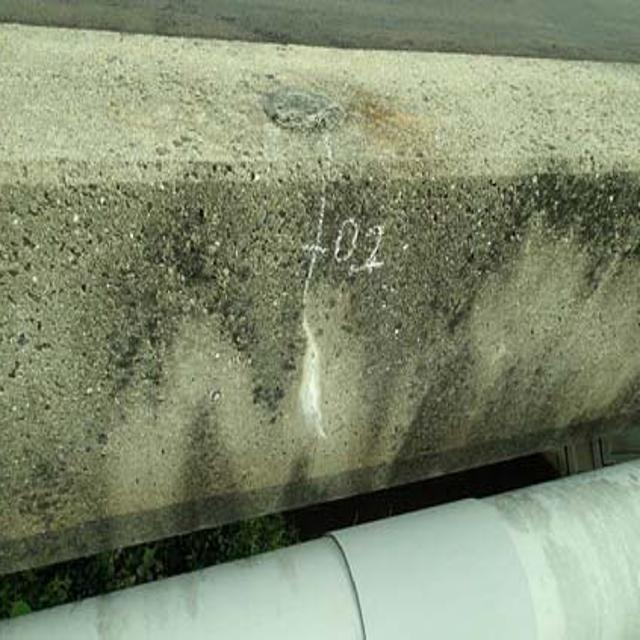freelime: (297, 307, 326, 434)
